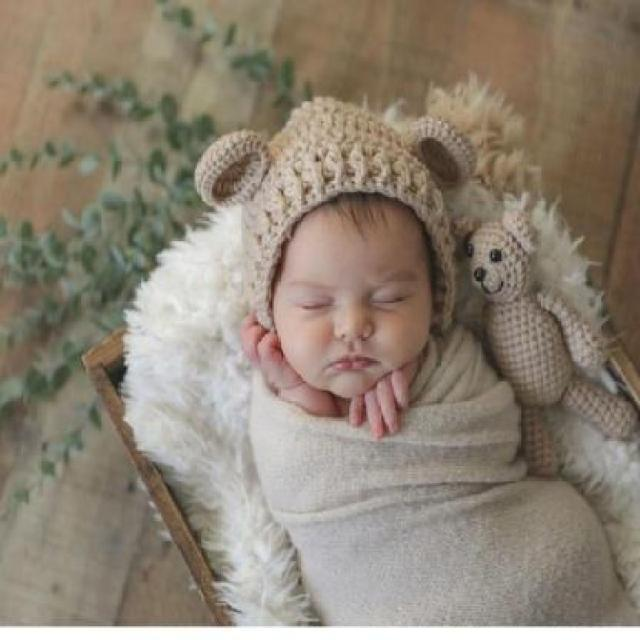baby: (195, 95, 640, 627)
